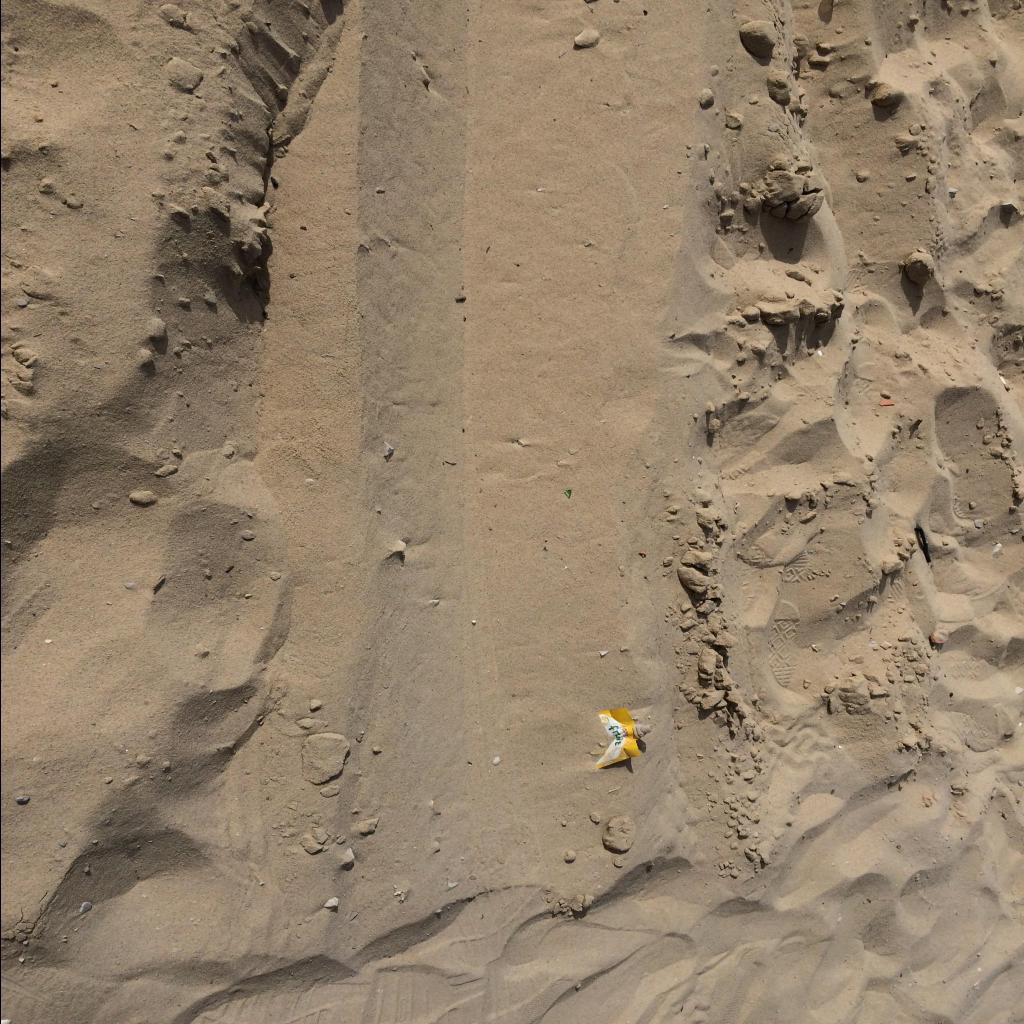Plastic straw: (914, 524, 930, 562)
Squeezable tube: (594, 708, 654, 770)
